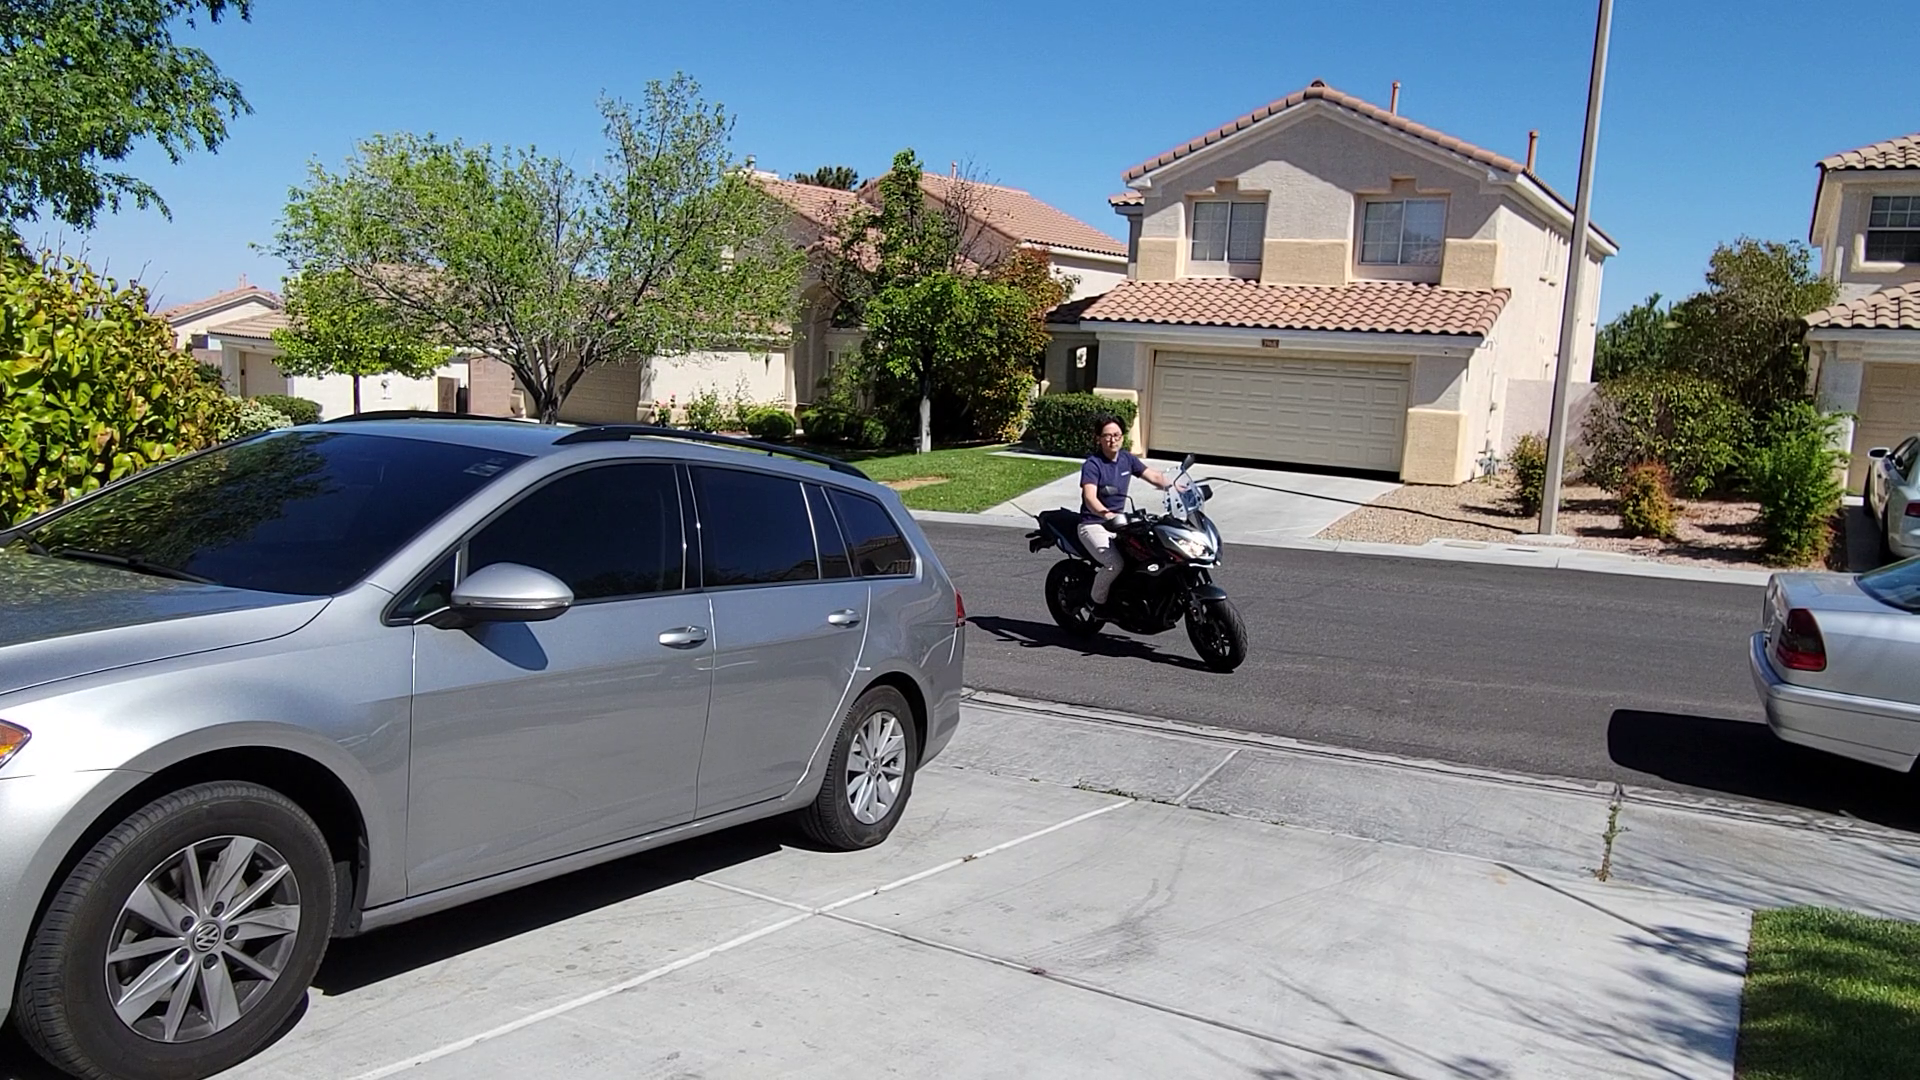my bike: (1021, 410, 1251, 674)
